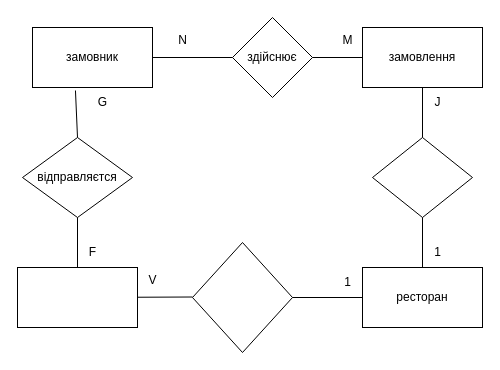
The diagram is 500 pixels wide and 370 high, and some of its shapes have lost their labels. The shapes that lost their labels are listed below. From the top down, each one's centre as x and y in pixels, then its label:
[422,177]: надсилається в
[77,297]: продукт
[242,297]: готує
